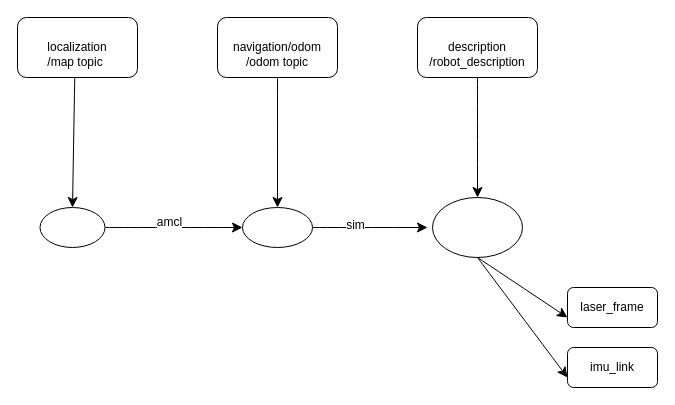
This 675x405 diagram has some shape labels left out. Here are the shapes that lost their labels. From the top down, the centre of each, then its label:
At [72,227]: "map".
At [277,227]: "odom".
At [477,227]: "base_footprint".
